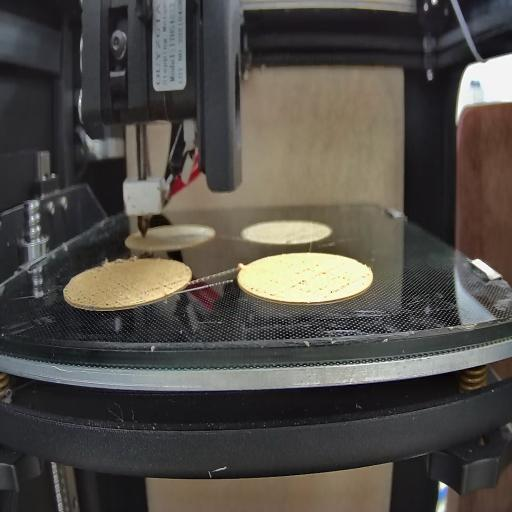under_extrusion: (292, 258, 351, 297), (78, 275, 131, 308), (144, 277, 183, 297), (250, 284, 274, 300)
